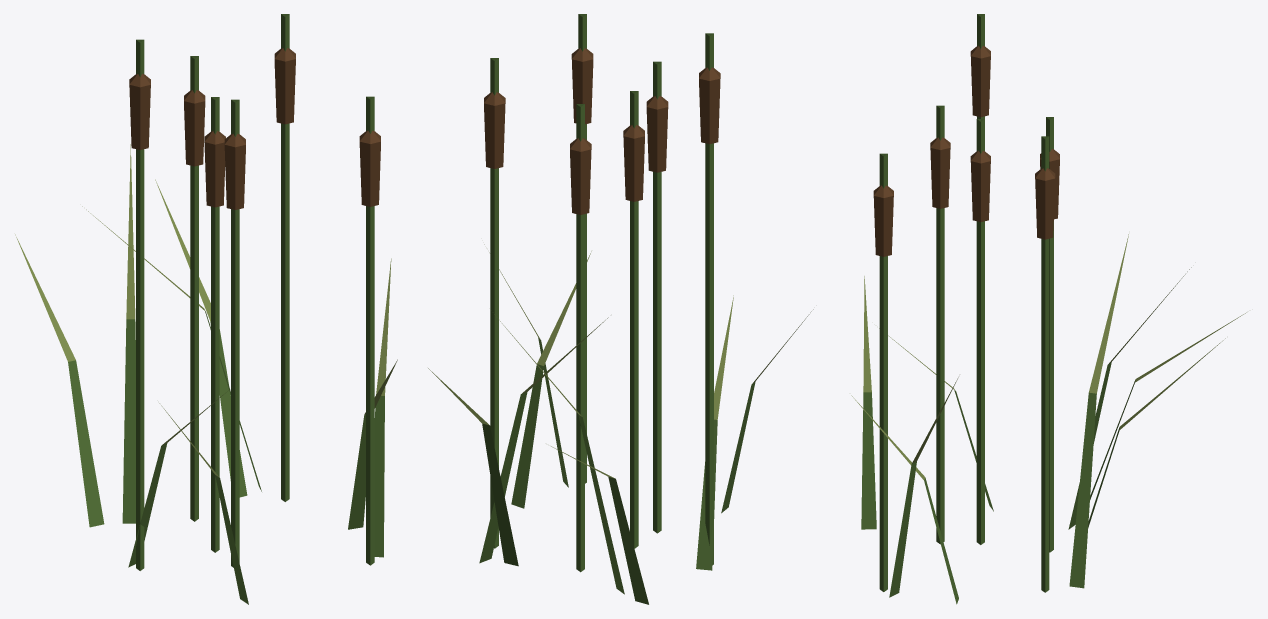
The model's file is Water Plant - Cattails-BE-fPtkb.glb.
3 views of the same model, side by side, from view 1: azimuth 30°, elevation 25°; view 2: azimuth 150°, elevation 25°; view 3: azimuth 270°, elevation 25° (orthographic). The views are drawn at different scales.
Visible parts, largest first — view 1: body; view 2: body; view 3: body.
Part boxes in pixels (x1,y1,x2,y2): body: (15,14,397,604); body: (428,14,813,604); body: (851,14,1246,604).
Bounding box in the file's own units: 0.8006 × 1.41 × 1.05.
